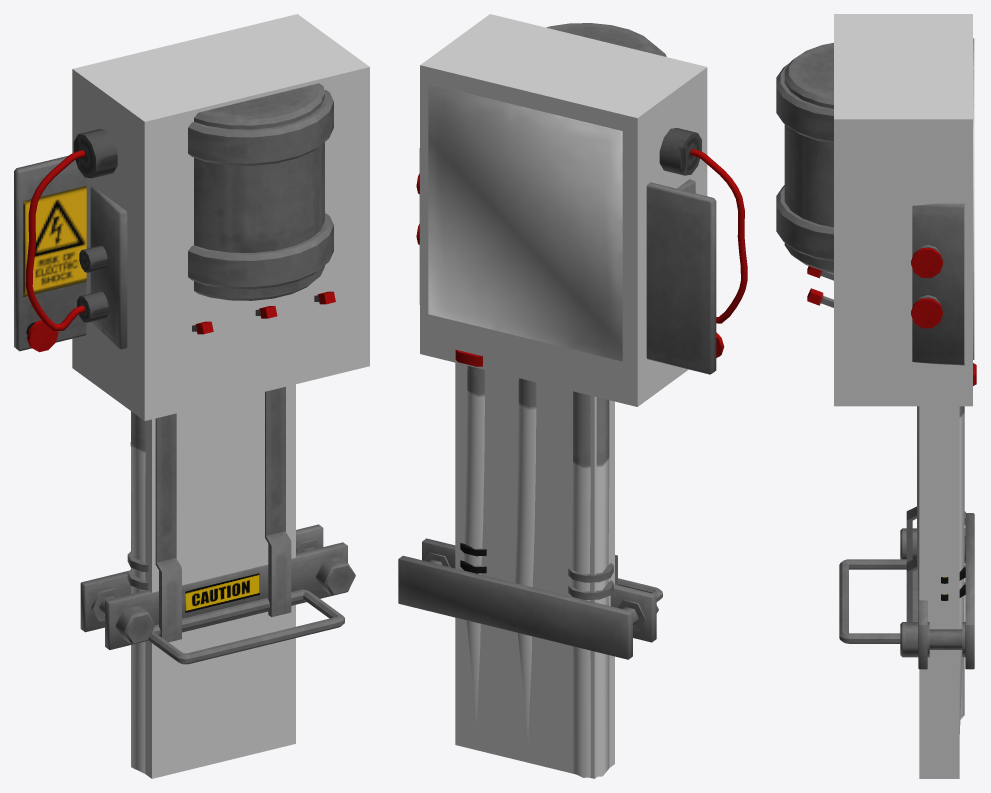
The model's file is SFM_ElectricCable_Box.FBX.
3 renders of one model, left to right at view 1: azimuth 30°, elevation 25°; view 2: azimuth 150°, elevation 25°; view 3: azimuth 270°, elevation 25°, orthographic. The views are drawn at different scales.
Parts seen in each view (by area): view 1: SFM_ElectricCable_Box_Colider, SFM_ElectricCable_Box_LOD0; view 2: SFM_ElectricCable_Box_LOD0, SFM_ElectricCable_Box_Colider; view 3: SFM_ElectricCable_Box_Colider, SFM_ElectricCable_Box_LOD0.
Part boxes in pixels (x1,y1,x2,y2): SFM_ElectricCable_Box_Colider: (72, 14, 369, 778); SFM_ElectricCable_Box_LOD0: (14, 83, 355, 773); SFM_ElectricCable_Box_LOD0: (398, 23, 747, 777); SFM_ElectricCable_Box_Colider: (420, 14, 707, 778); SFM_ElectricCable_Box_Colider: (834, 14, 972, 778); SFM_ElectricCable_Box_LOD0: (776, 38, 976, 733).
Size of what is drawn, in the model's own units: 19 by 38.94 by 10.5.
